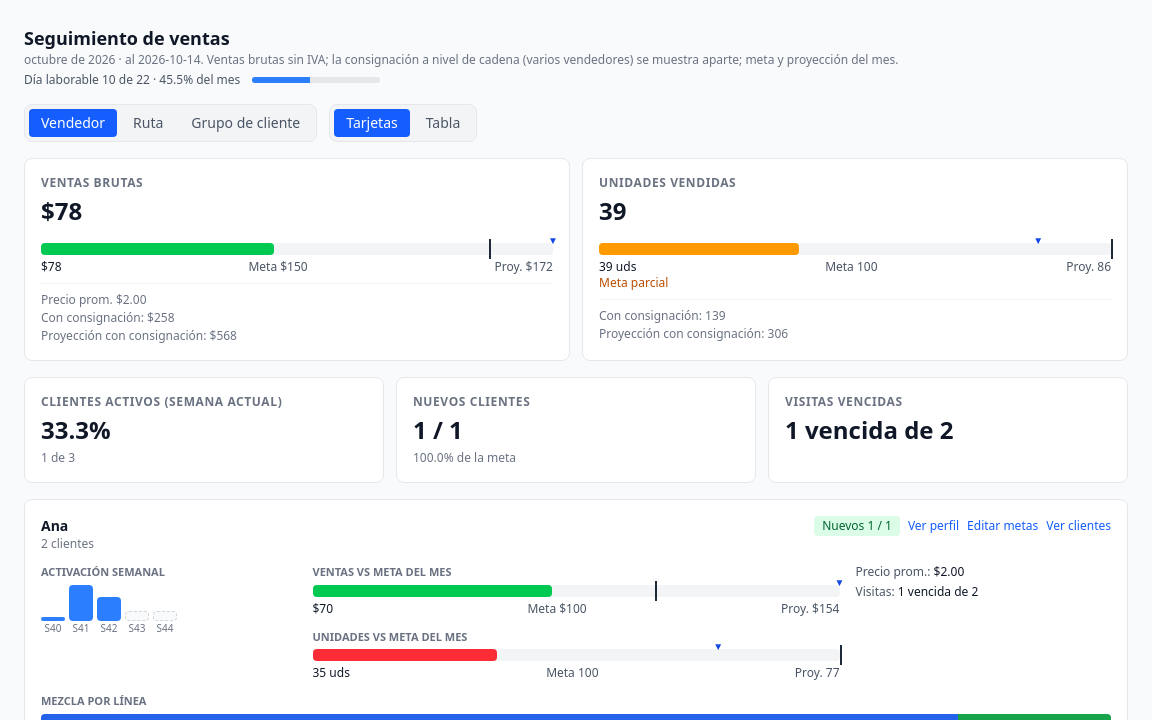
Test: TabSeguimiento › switching the root toggle refetches with the new kind
The image size is (1152, 720).
Expected: the heading "Seguimiento de ventas" is shown, [24,26,230,50]
Click the button "Ruta".
click(148, 123)  # box [121,109,175,137]
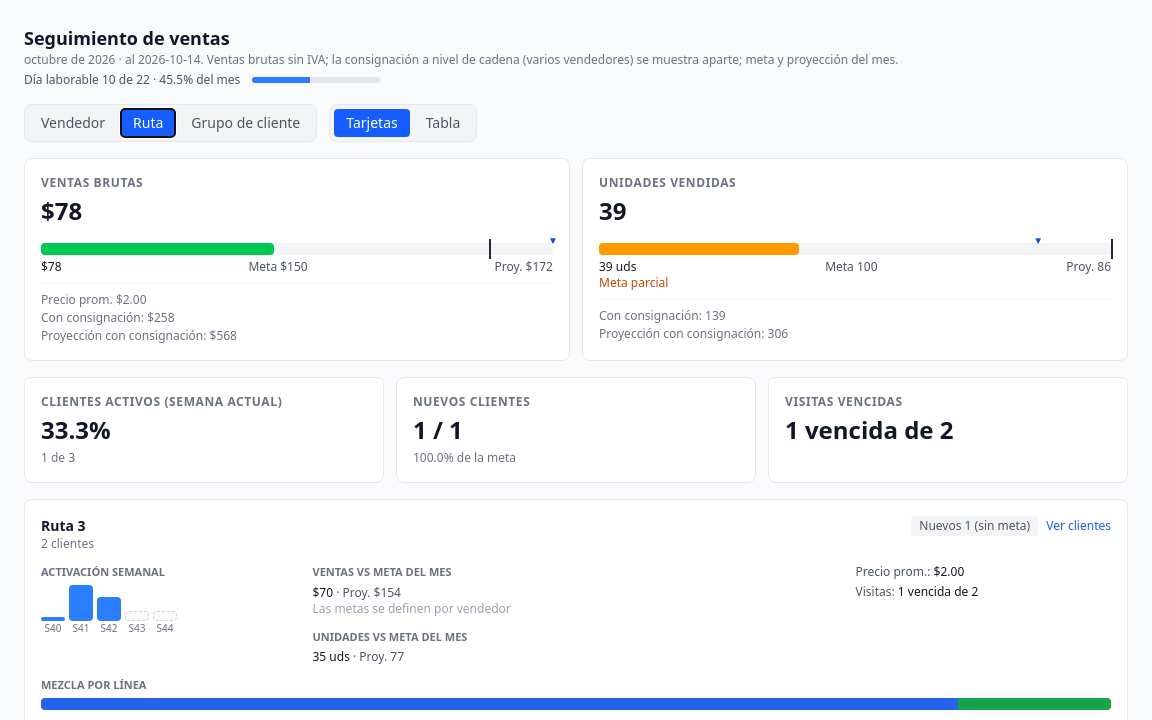
Now the button "Ver perfil" is gone
Click the button "Grupo de cliente".
click(246, 123)  # box [179,109,312,137]
(page scrolled)
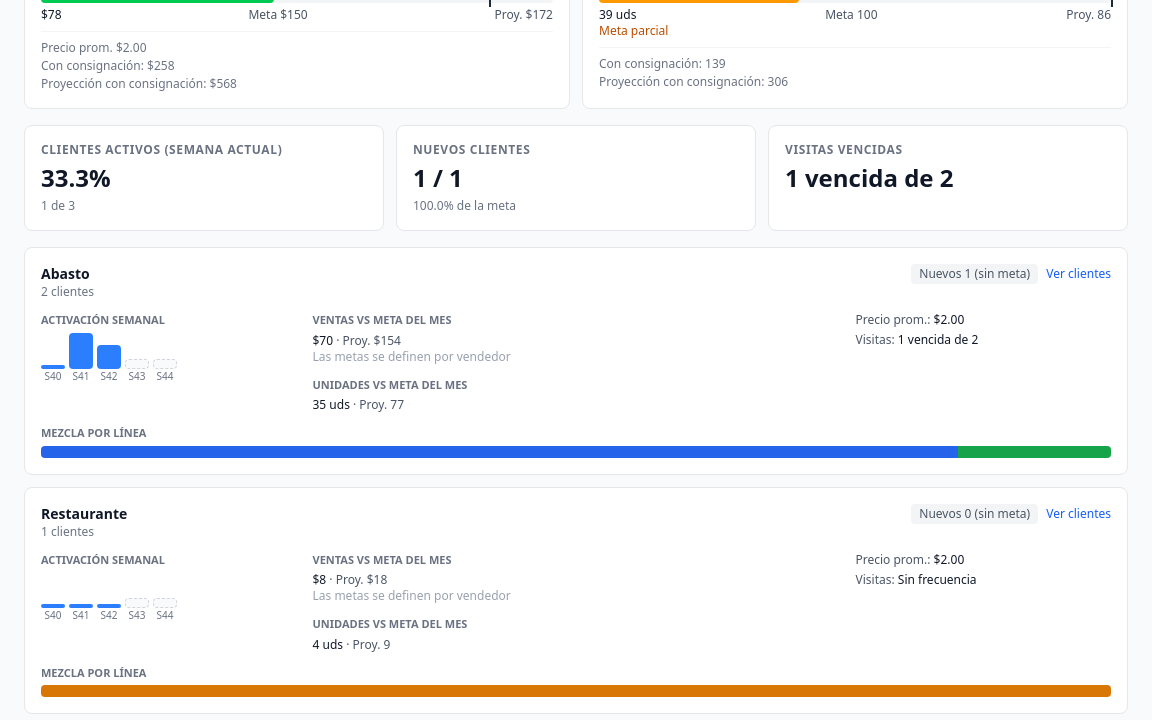
Now the element "Abasto" is shown, box [24,247,1128,474]
